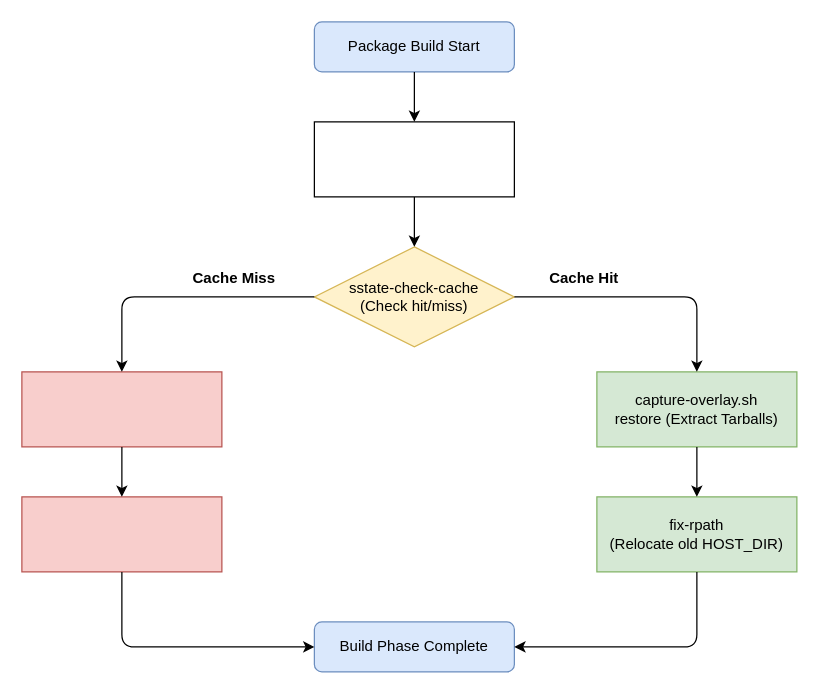
The diagram is 819 pixels wide and 694 high, and some of its shapes have lost their labels. Here are the shapes that lost their labels. From the top down, the centre of each, then its label:
At (413,159): "compute-hash.sh (Generate SHA256 Signature)".
At (121,409): "Direct Build Execution (Extract, Patch, Config, Build)".
At (121,534): "capture-overlay.sh overlay / capture (Save to Cache)".
